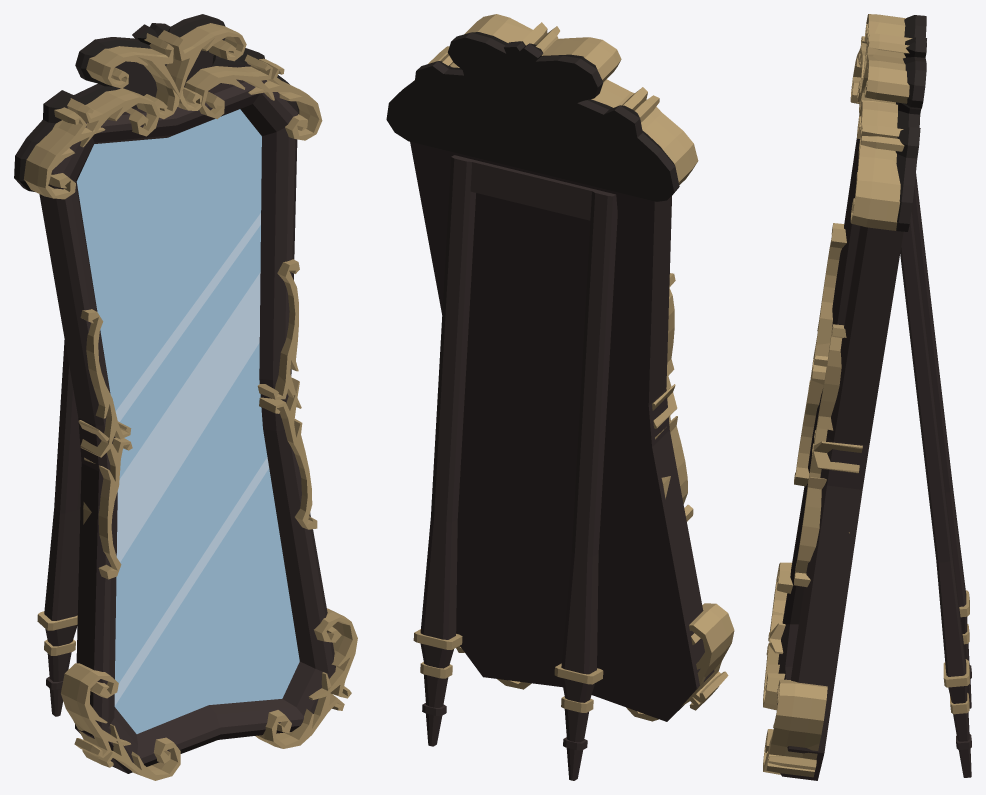
Rendered from WF_LP_HT_Props_Mirror.fbx.
3 views of the same model, side by side, from view 1: azimuth 30°, elevation 25°; view 2: azimuth 150°, elevation 25°; view 3: azimuth 270°, elevation 25° (orthographic). The views are drawn at different scales.
Visible parts, largest first — view 1: WF_LP_HT_Props_Mirror; view 2: WF_LP_HT_Props_Mirror; view 3: WF_LP_HT_Props_Mirror.
Part boxes in pixels (bbox=[...]): WF_LP_HT_Props_Mirror: bbox=[14, 14, 357, 780]; WF_LP_HT_Props_Mirror: bbox=[386, 14, 734, 780]; WF_LP_HT_Props_Mirror: bbox=[763, 14, 971, 780].
Size of the model in its own units: 1.19 by 2.77 by 0.7421.
